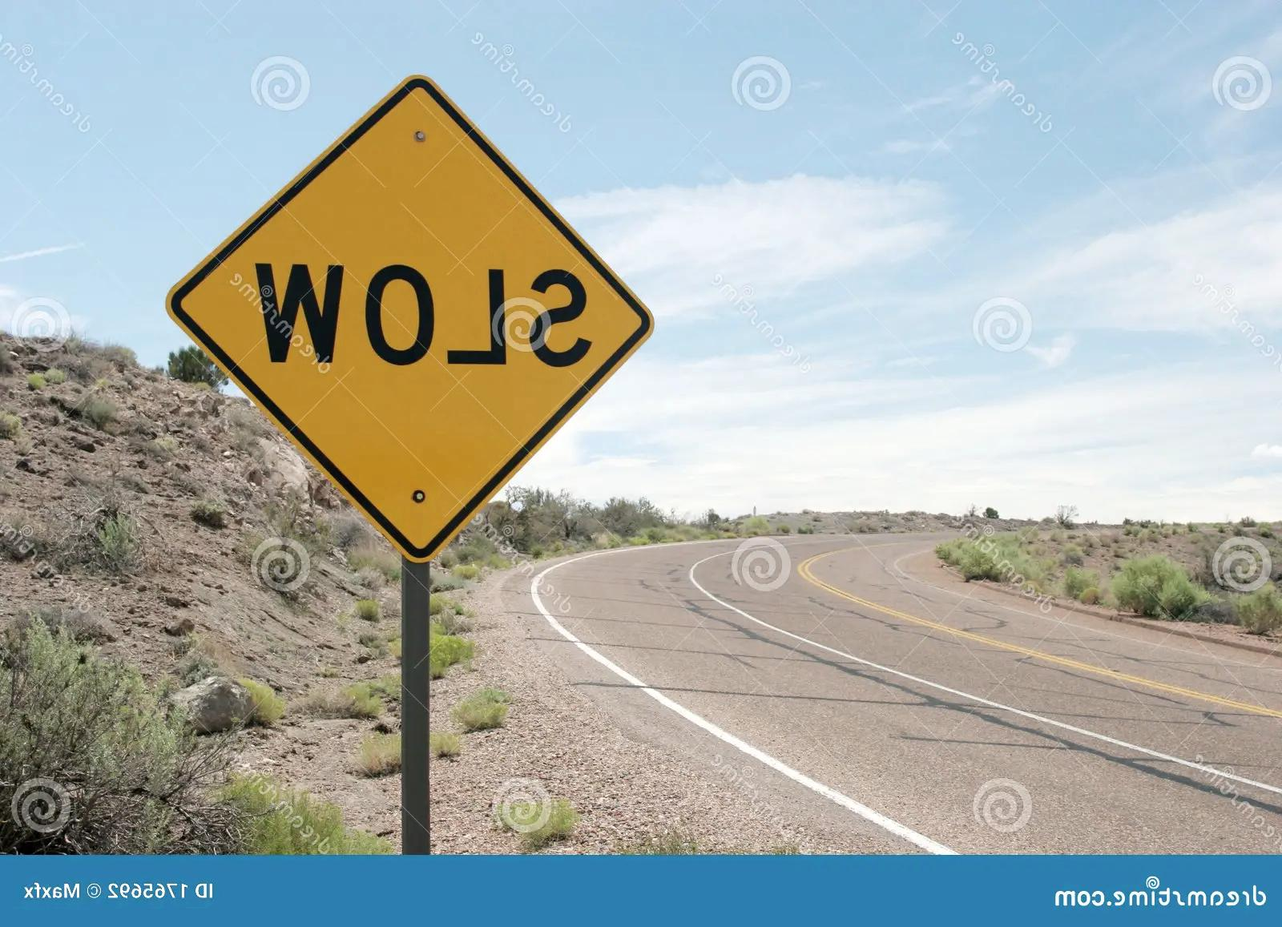Slow: (181, 91, 646, 552)
